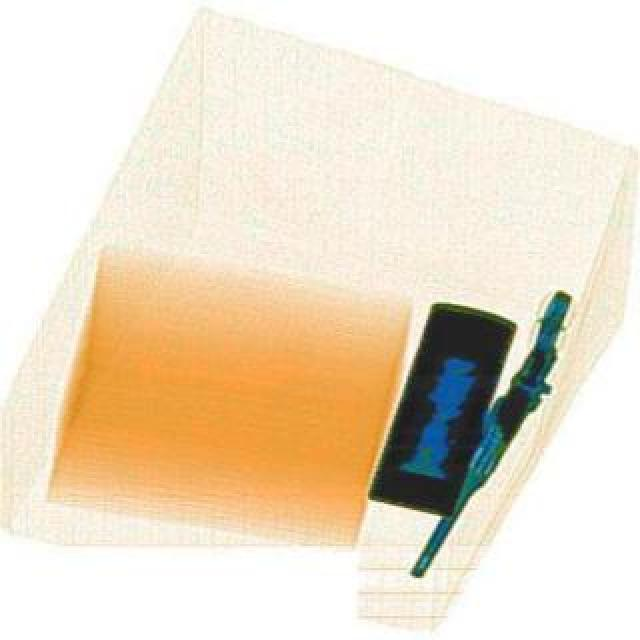gun: (404, 292, 596, 582)
